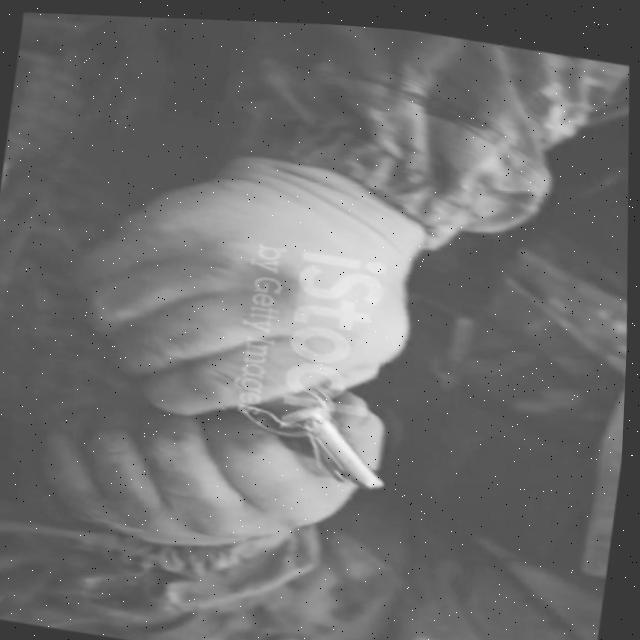grenade: (245, 377, 404, 499)
